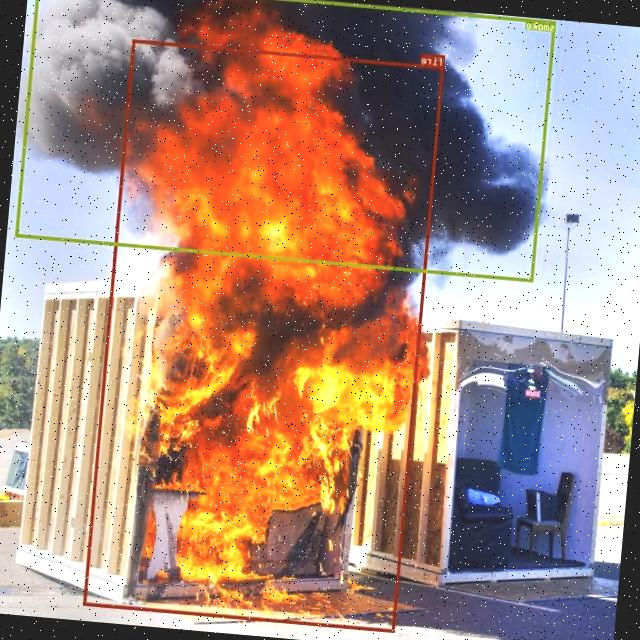fire: (83, 39, 444, 632)
smoke: (15, 0, 556, 281)
